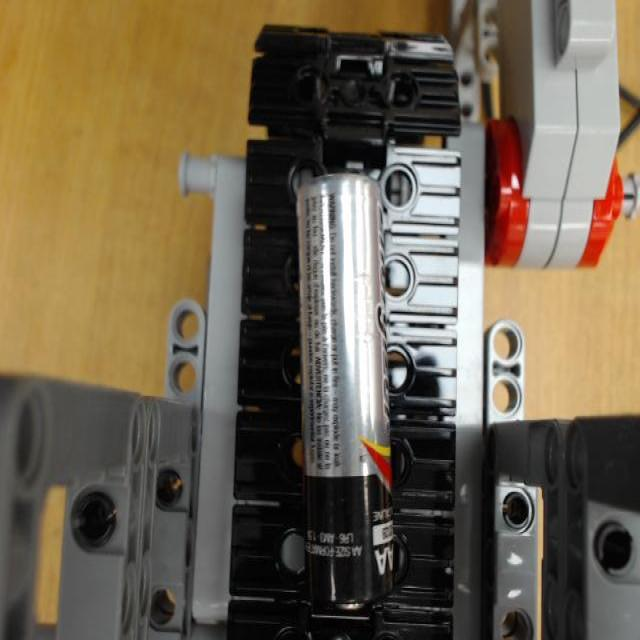AA: (289, 169, 401, 616)
